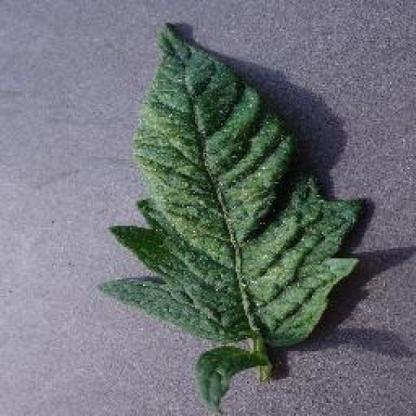Tomato_Spider_Mites: (100, 24, 362, 348)
